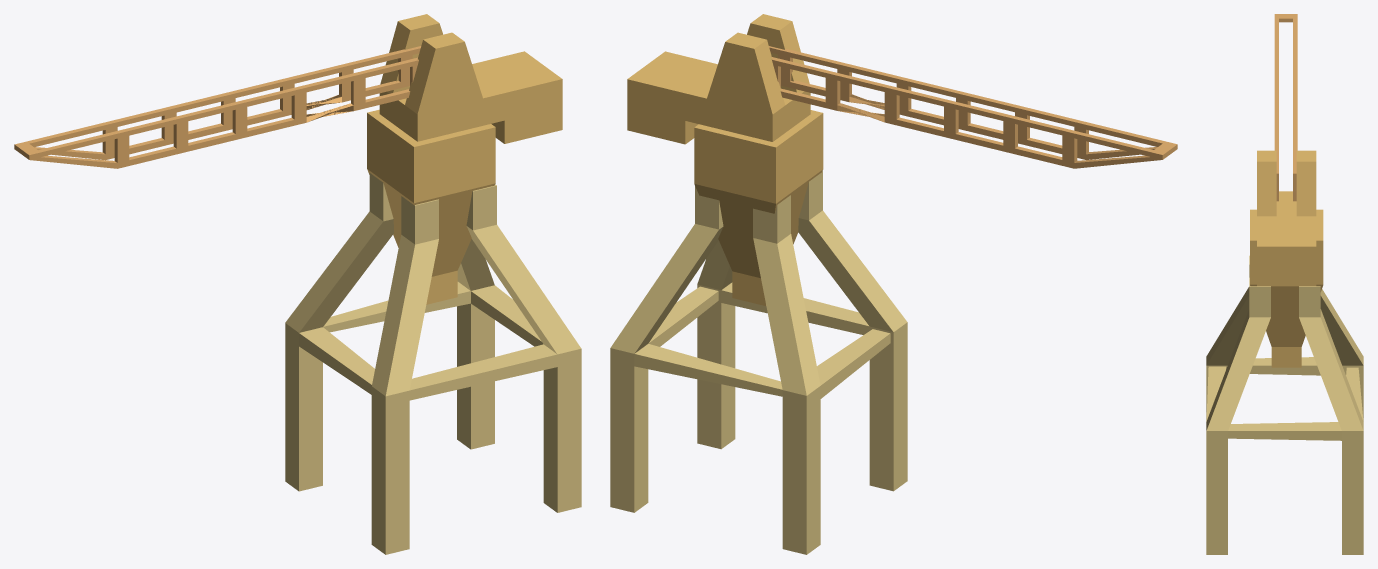
Rendered from kran.fbx.
The picture shows the model from 3 angles, left to right: view 1: azimuth 30°, elevation 25°; view 2: azimuth 150°, elevation 25°; view 3: azimuth 270°, elevation 25°; orthographic projection. The views are drawn at different scales.
Visible parts, largest first — view 1: Cube.059; view 2: Cube.059; view 3: Cube.059.
Part boxes in pixels (x1=…): Cube.059: x1=14, y1=14, x2=581, y2=554; Cube.059: x1=610, y1=14, x2=1177, y2=554; Cube.059: x1=1206, y1=14, x2=1363, y2=554.
Bounding box in the file's own units: 3753 × 3175 × 1251.
